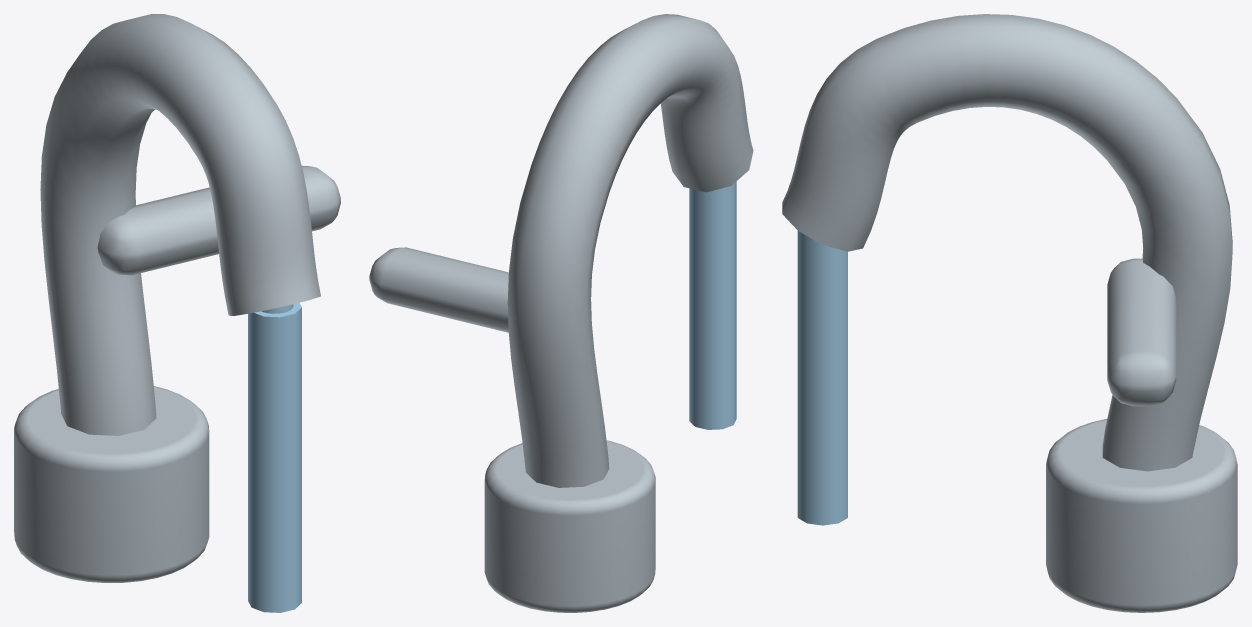
File: bathroomWcTapAni.glb
The picture shows the model from 3 angles, left to right: view 1: azimuth 30°, elevation 25°; view 2: azimuth 150°, elevation 25°; view 3: azimuth 270°, elevation 25°; orthographic projection. The views are drawn at different scales.
Visible parts, largest first — view 1: Curved tap, Tap base, Flowing water, Tap lever; view 2: Curved tap, Tap base, Flowing water, Tap lever; view 3: Curved tap, Tap base, Flowing water, Tap lever.
Part boxes in pixels (x1,y1,x2,y2): Curved tap: (40, 14, 320, 435); Tap base: (14, 386, 209, 582); Flowing water: (248, 302, 301, 612); Tap lever: (97, 165, 340, 275); Curved tap: (507, 14, 753, 487); Tap base: (484, 440, 655, 612); Flowing water: (689, 181, 736, 429); Tap lever: (369, 247, 508, 332); Curved tap: (782, 14, 1232, 471); Tap base: (1046, 419, 1237, 612); Flowing water: (797, 231, 847, 525); Tap lever: (1107, 258, 1176, 406).
Size of the model in its own units: 0.325 by 0.5779 by 0.4279.
